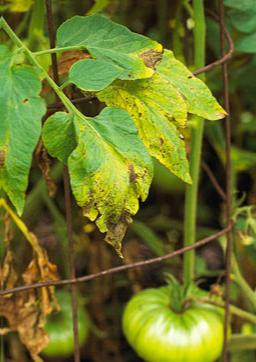Tomato Septoria leaf spot: (66, 109, 155, 252), (94, 61, 191, 188), (118, 33, 232, 131)
